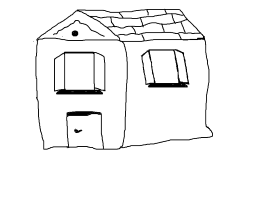door: (63, 107, 110, 152)
open_window: (50, 49, 108, 97), (137, 45, 195, 91)
roof: (32, 4, 212, 45)
wall: (116, 36, 213, 150)
